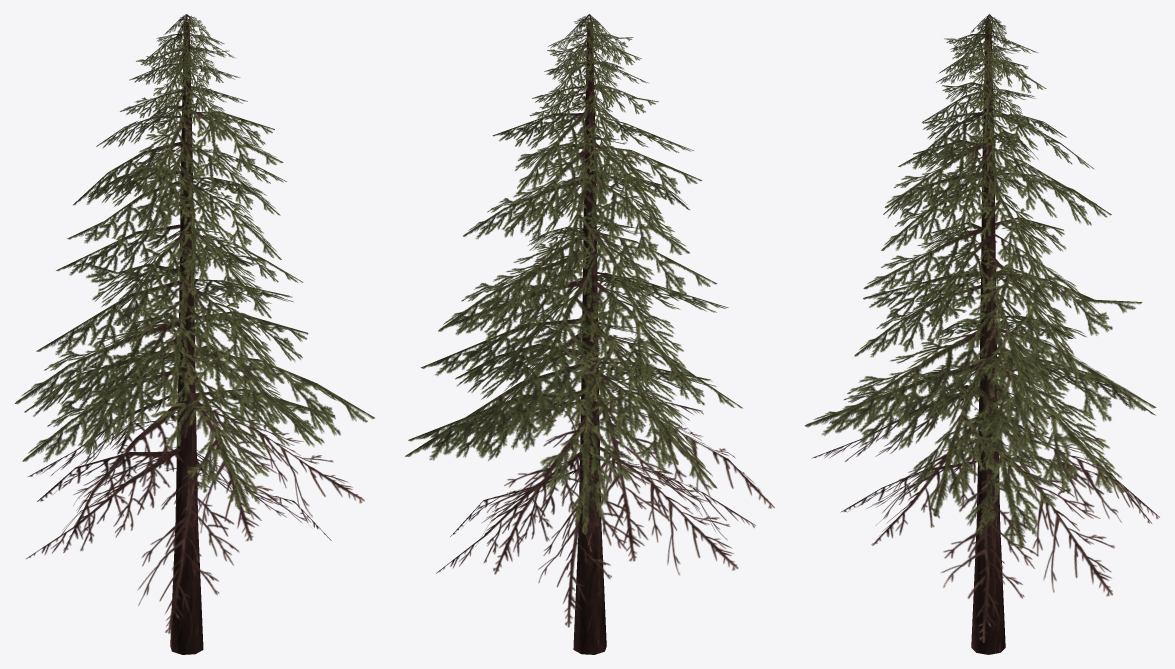
Rendered from tree.glb.
The picture shows the model from 3 angles, left to right: view 1: azimuth 30°, elevation 25°; view 2: azimuth 150°, elevation 25°; view 3: azimuth 270°, elevation 25°; orthographic projection.
Visible parts, largest first — view 1: branch; view 2: branch; view 3: branch.
Part boxes in pixels (x1,y1,x2,y2): branch: (15,14,374,654); branch: (405,14,774,654); branch: (805,14,1159,654).
Size of the model in its own units: 5.36 by 10.14 by 5.17.
Materials: 1 (1 with a texture image).
